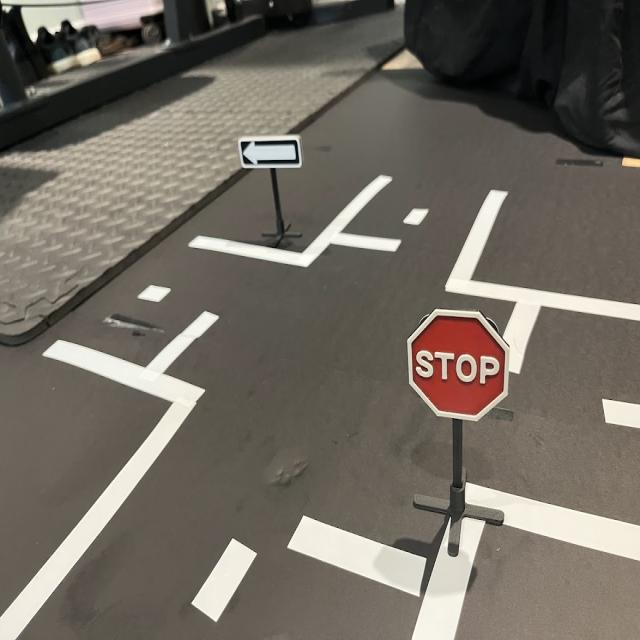sign_oneway_left: (239, 133, 307, 171)
sign_stop: (408, 303, 514, 426)
